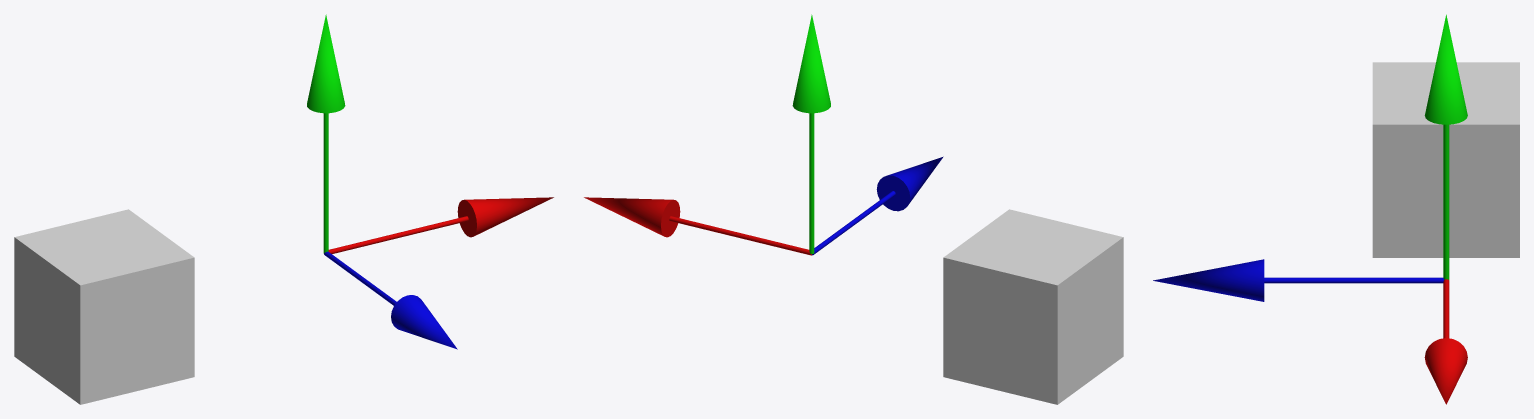
The picture shows the model from 3 angles, left to right: view 1: azimuth 30°, elevation 25°; view 2: azimuth 150°, elevation 25°; view 3: azimuth 270°, elevation 25°; orthographic projection. The views are drawn at different scales.
Parts seen in each view (by area): view 1: pCube1, polySurface1; view 2: pCube1, polySurface1; view 3: pCube1, polySurface1.
Boxes of the visible parts, x1,y1,x2,y2 form: pCube1: [14, 209, 194, 404]; polySurface1: [307, 14, 553, 349]; pCube1: [943, 209, 1123, 404]; polySurface1: [584, 14, 943, 255]; pCube1: [1372, 62, 1519, 257]; polySurface1: [1153, 14, 1467, 404].
Bounding box in the file's own units: 4.44 × 2.5 × 2.5.
